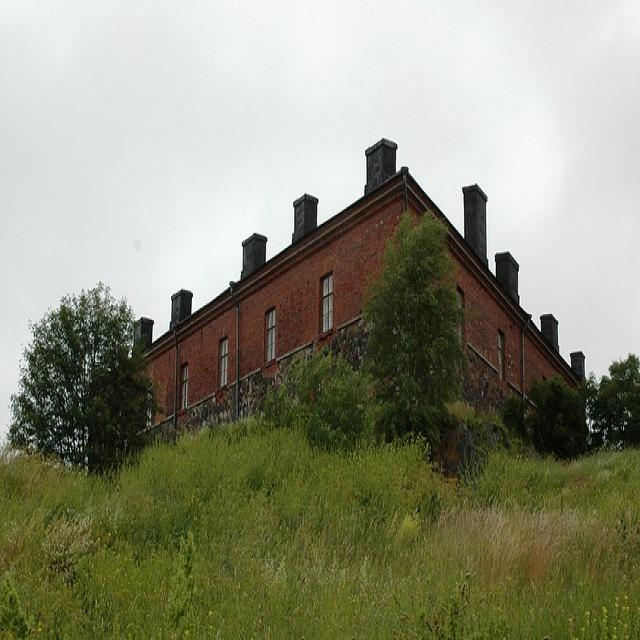Normal_building: (105, 137, 588, 496)
